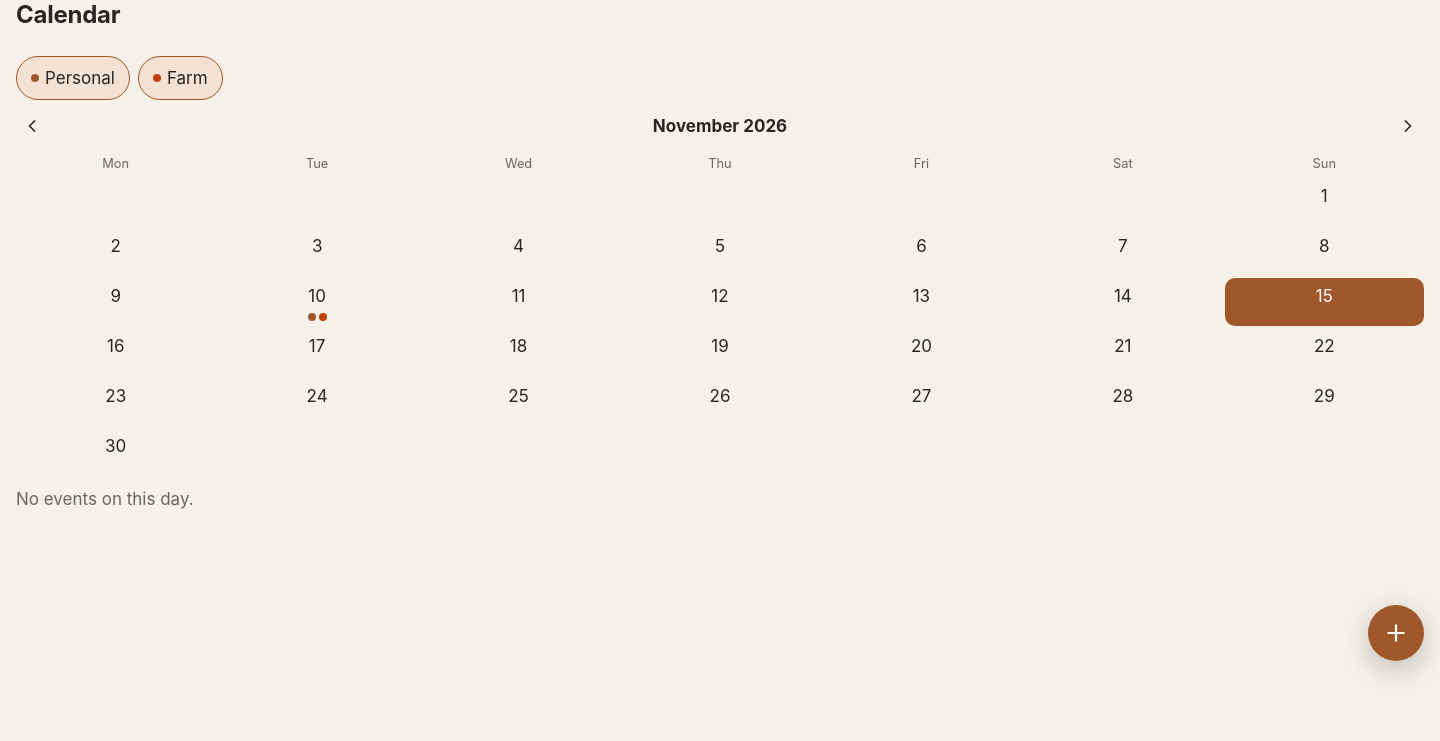
Test case: CalendarPage › live updates from a teammate appear without reloading
This screenshot has width=1440, height=741.
Click the button named "2026-11-10" at {"x": 317, "y": 302}, box [217,278,417,326]
(page scrolled)
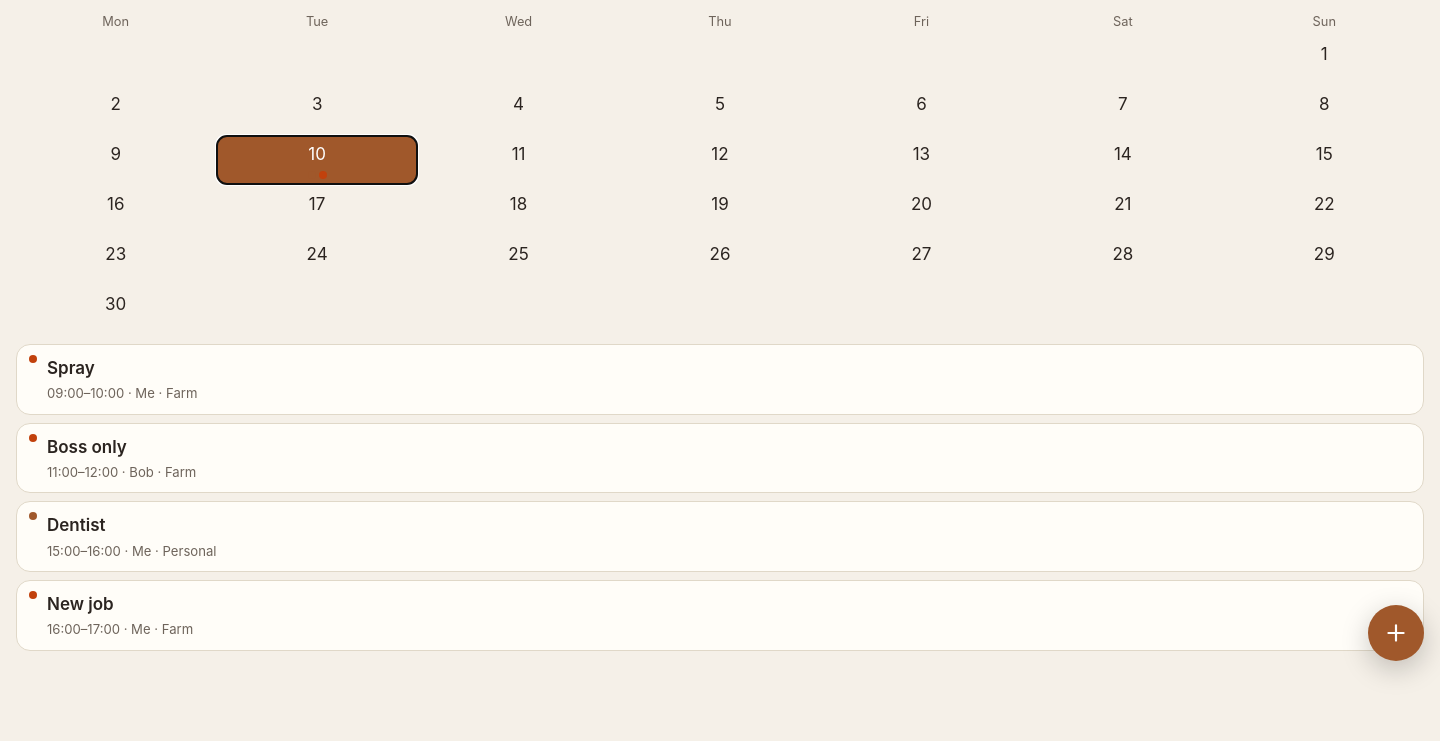
expect the text "New job" is shown: met, box [47,594,114,614]
